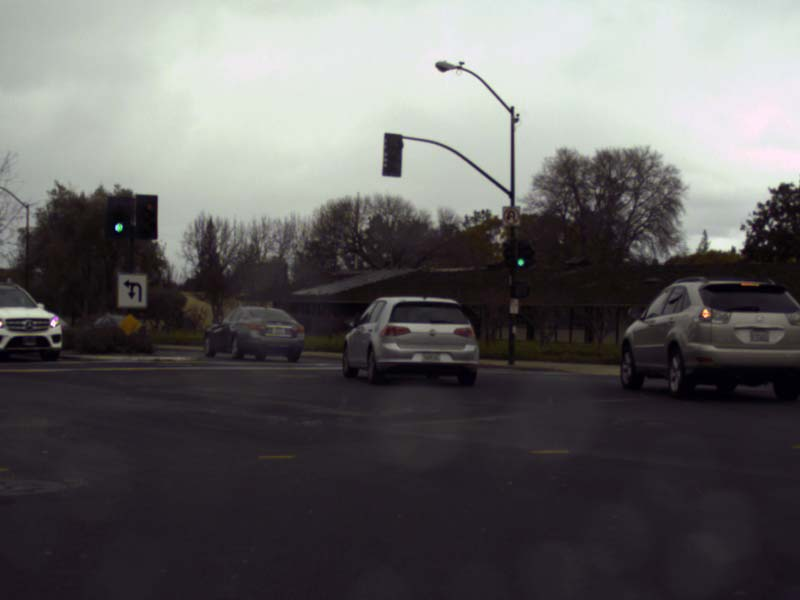Green: (107, 196, 128, 236), (515, 239, 527, 267)
Red: (136, 194, 156, 238), (384, 132, 401, 177)
